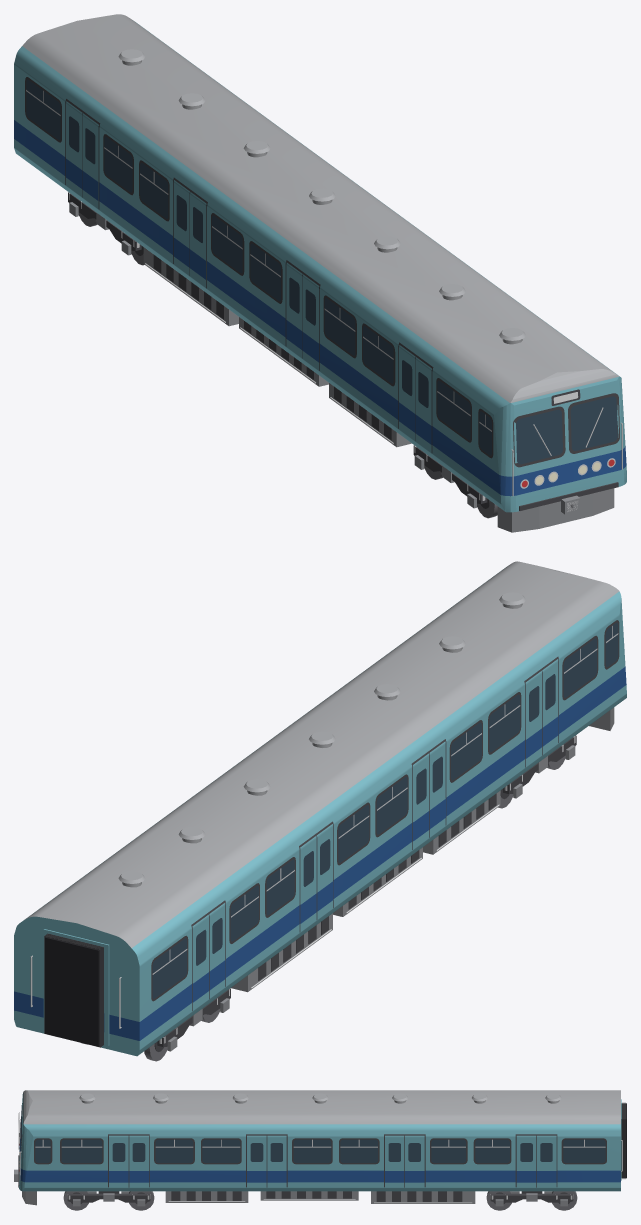
The model's file is 3_close.fbx.
3 views of the same model, one above another, from view 1: azimuth 30°, elevation 25°; view 2: azimuth 150°, elevation 25°; view 3: azimuth 270°, elevation 25° (orthographic). The views are drawn at different scales.
Parts seen in each view (by area): view 1: 20_3_close; view 2: 20_3_close; view 3: 20_3_close.
Boxes of the visible parts, <box> form: 20_3_close: <box>14,14,626,532</box>; 20_3_close: <box>14,561,626,1061</box>; 20_3_close: <box>14,1090,626,1210</box>.
Size of the model in its own units: 2.93 by 3.72 by 20.
